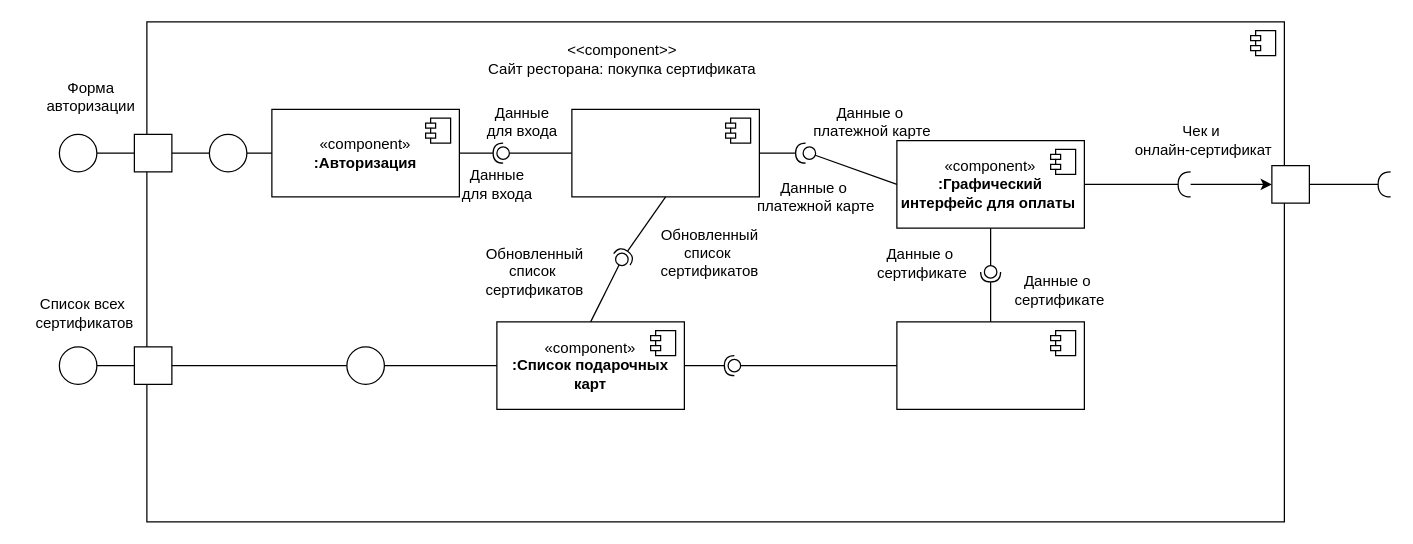
Some shapes in this 1413 by 544 pixel diagram are drawn without their labels. The box of each missing label's shape, as (x1, y1, x2, y2) in pixels:
«component» :Добавление карты: (896, 321, 1084, 409)
«component» :Пользователь: (571, 108, 759, 197)
